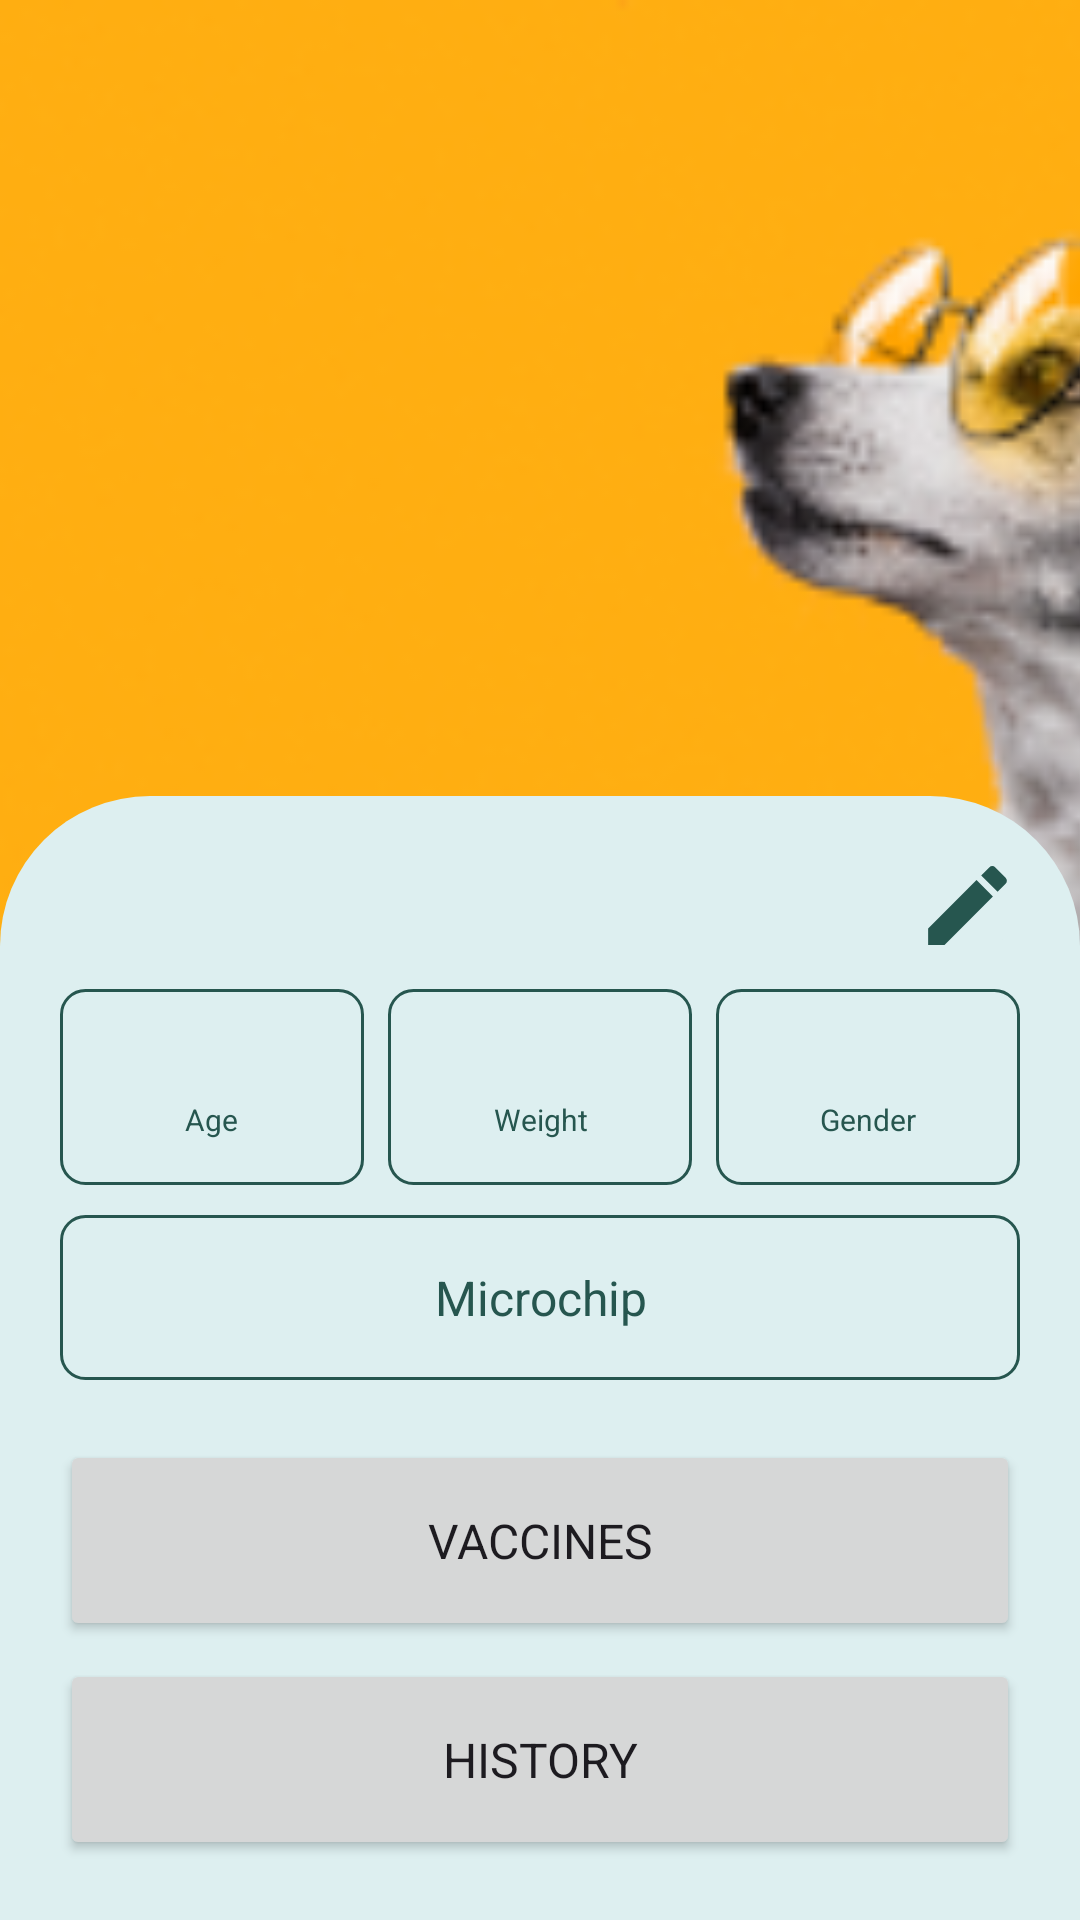

Where icons sit on this 1080 x 1920 app screen, as (x1, y1, x2, y2):
edit: (928, 866, 1007, 945)
